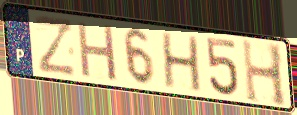5: (204, 36, 241, 98)
6: (122, 27, 157, 88)
H: (239, 36, 289, 109), (75, 19, 119, 84), (160, 31, 204, 95)
Z: (33, 13, 78, 78)
